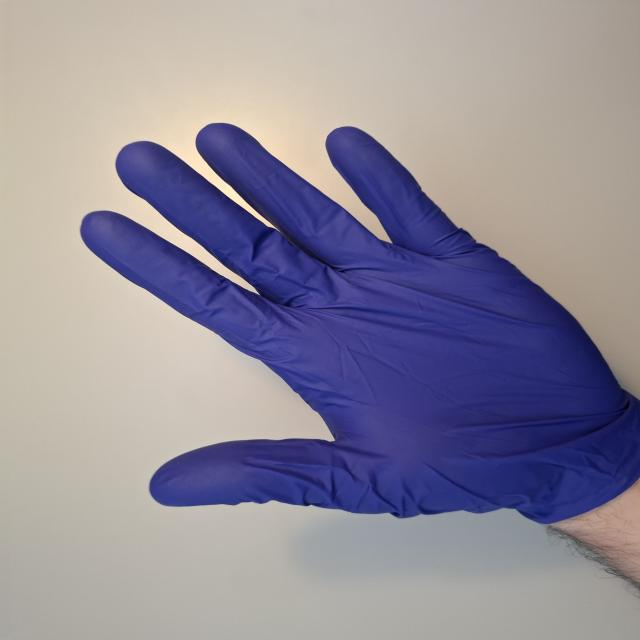glove_on: (76, 120, 640, 524)
